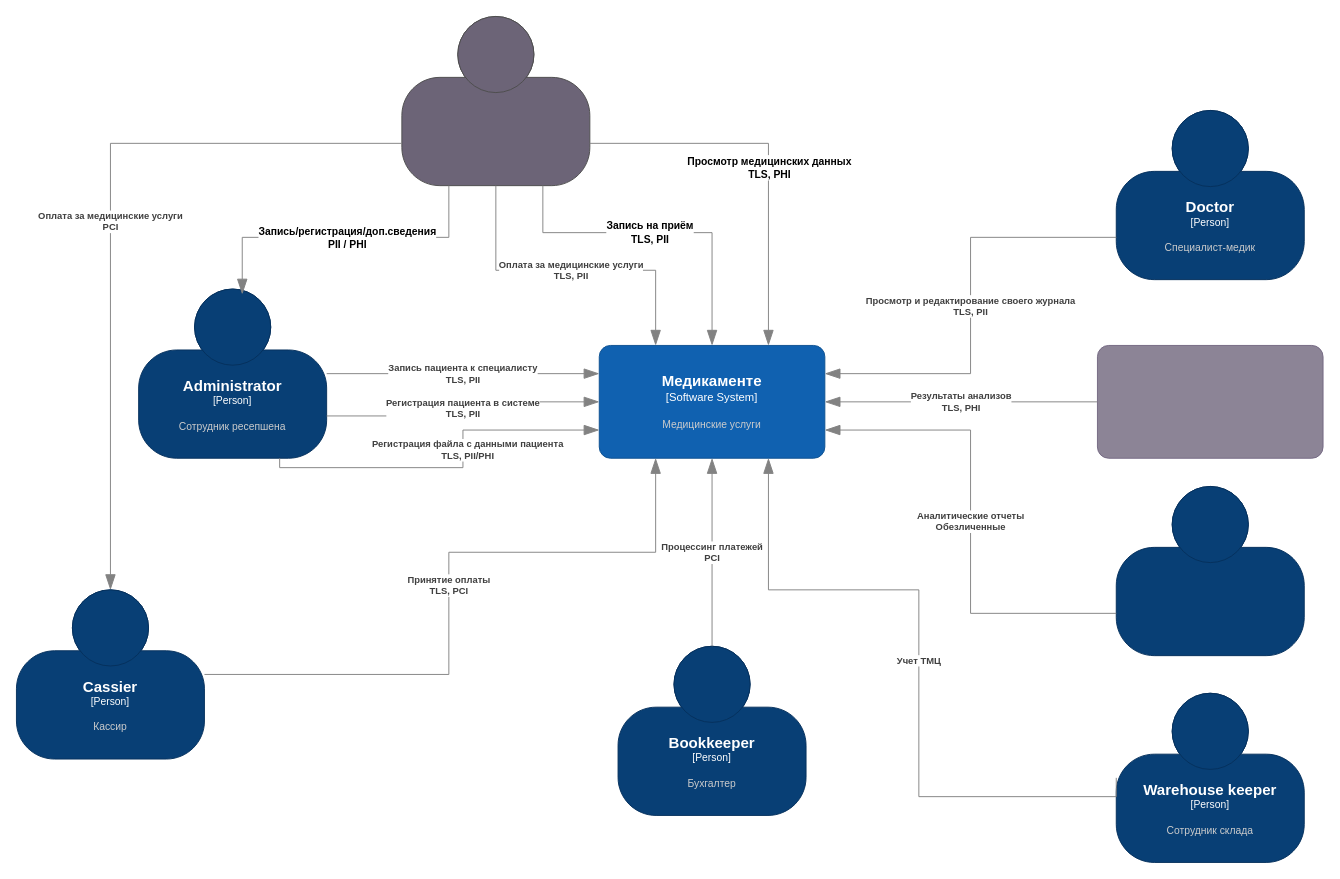
Some shapes in this 1340 by 879 pixel diagram are drawn without their labels. The shapes that lost their labels are listed below. From the top down, each one's box as (x1, y1, x2, y2) in pixels, then its label:
(401, 16, 590, 186): Patient [Person] Пациент
(1097, 345, 1323, 458): Laboratory [Software System] Медицинская лаборатория
(1115, 486, 1304, 656): Analyst [Person] Аналитик
